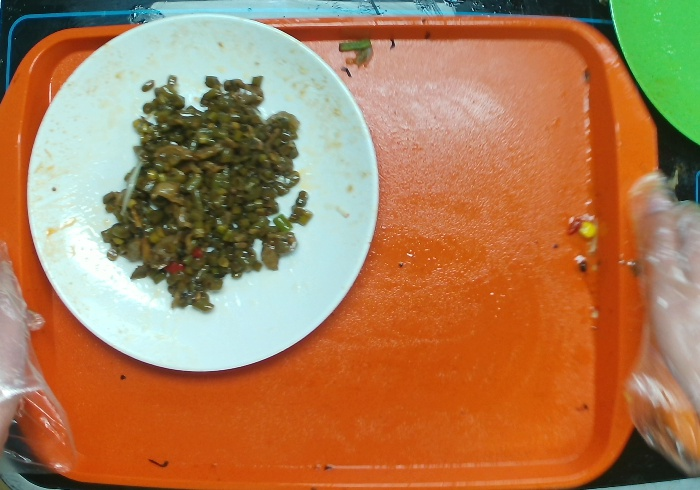HZYJPL-Bai_Se_Yuan_Pan: (25, 11, 379, 376)
